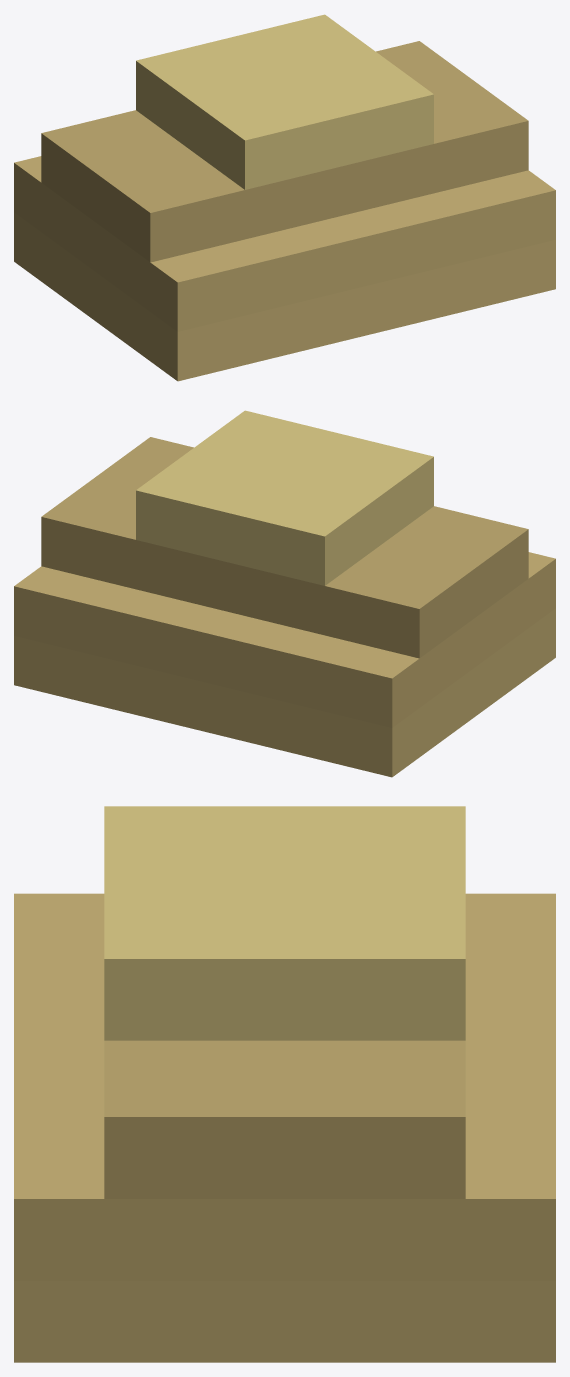
File: mat_gold_lod1.glb
3 renders of one model, top to bottom at view 1: azimuth 30°, elevation 25°; view 2: azimuth 150°, elevation 25°; view 3: azimuth 270°, elevation 25°, orthographic. The views are drawn at different scales.
Visible parts, largest first — view 1: mat_gold_lod1; view 2: mat_gold_lod1; view 3: mat_gold_lod1.
Part boxes in pixels (x1=…): mat_gold_lod1: x1=14, y1=14, x2=555, y2=381; mat_gold_lod1: x1=14, y1=410, x2=555, y2=777; mat_gold_lod1: x1=14, y1=806, x2=555, y2=1362.
Size of the model in its own units: 0.192 by 0.096 by 0.144.
